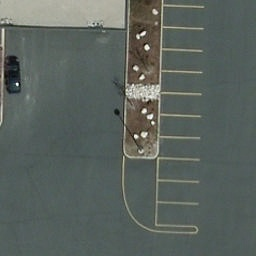car: (5, 57, 24, 96)
